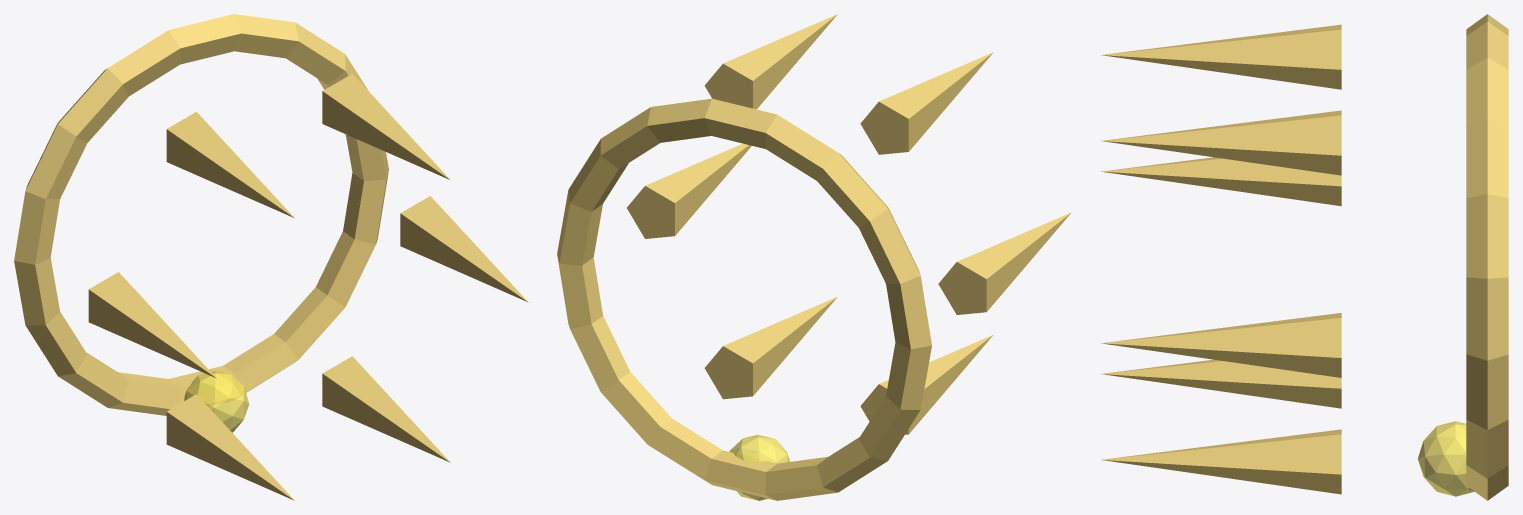
File: broken_crown_relic.glb
3 views of the same model, side by side, from view 1: azimuth 30°, elevation 25°; view 2: azimuth 150°, elevation 25°; view 3: azimuth 270°, elevation 25° (orthographic). The views are drawn at different scales.
Visible parts, largest first — view 1: crown_ring, spike_3, spike_2, spike_4, spike_1, spike_5, spike_0, gem; view 2: crown_ring, spike_5, spike_3, spike_2, spike_0, spike_1, spike_4, gem; view 3: crown_ring, spike_1, spike_2, spike_5, spike_0, spike_4, spike_3, gem.
Boxes of the visible parts, box(x1,y1,x2,y2) form: crown_ring: box(14, 14, 388, 415); spike_3: box(88, 272, 216, 378); spike_2: box(166, 112, 294, 218); spike_4: box(166, 394, 294, 500); spike_1: box(322, 73, 449, 179); spike_5: box(322, 356, 450, 462); spike_0: box(400, 196, 528, 302); gem: box(184, 370, 249, 432); crown_ring: box(557, 98, 931, 500); spike_5: box(704, 296, 837, 399); spike_3: box(938, 212, 1071, 314); spike_2: box(860, 52, 993, 154); spike_0: box(627, 143, 751, 238); spike_1: box(704, 14, 837, 109); spike_4: box(860, 335, 992, 434); gem: box(729, 435, 790, 500); crown_ring: box(1466, 14, 1508, 500); spike_1: box(1101, 110, 1341, 175); spike_2: box(1101, 24, 1341, 89); spike_5: box(1101, 429, 1341, 494); spike_0: box(1101, 313, 1341, 377); spike_4: box(1101, 359, 1341, 408); spike_3: box(1101, 157, 1341, 206); gem: box(1418, 421, 1474, 496).
Size of the model in its own units: 0.77 by 0.7892 by 0.6433.
